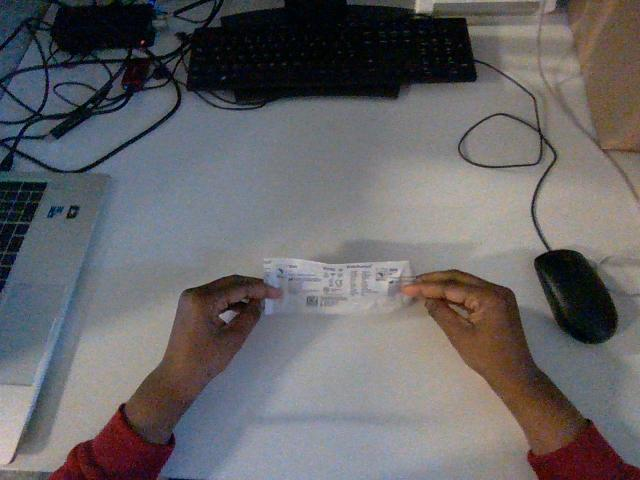syringe: (264, 258, 414, 313)
